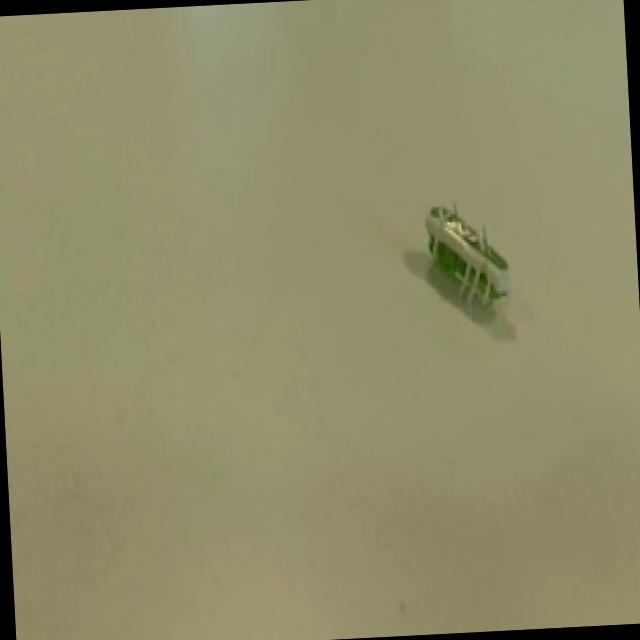4_NanoBug_Blanco: (393, 152, 539, 332)
